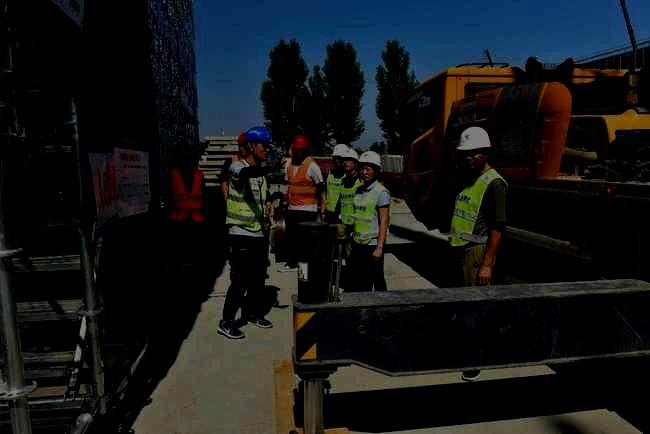helmet: (456, 126, 491, 171), (245, 126, 273, 160), (357, 150, 381, 182), (290, 136, 309, 159), (339, 148, 357, 172), (331, 143, 347, 164), (236, 132, 246, 156)
